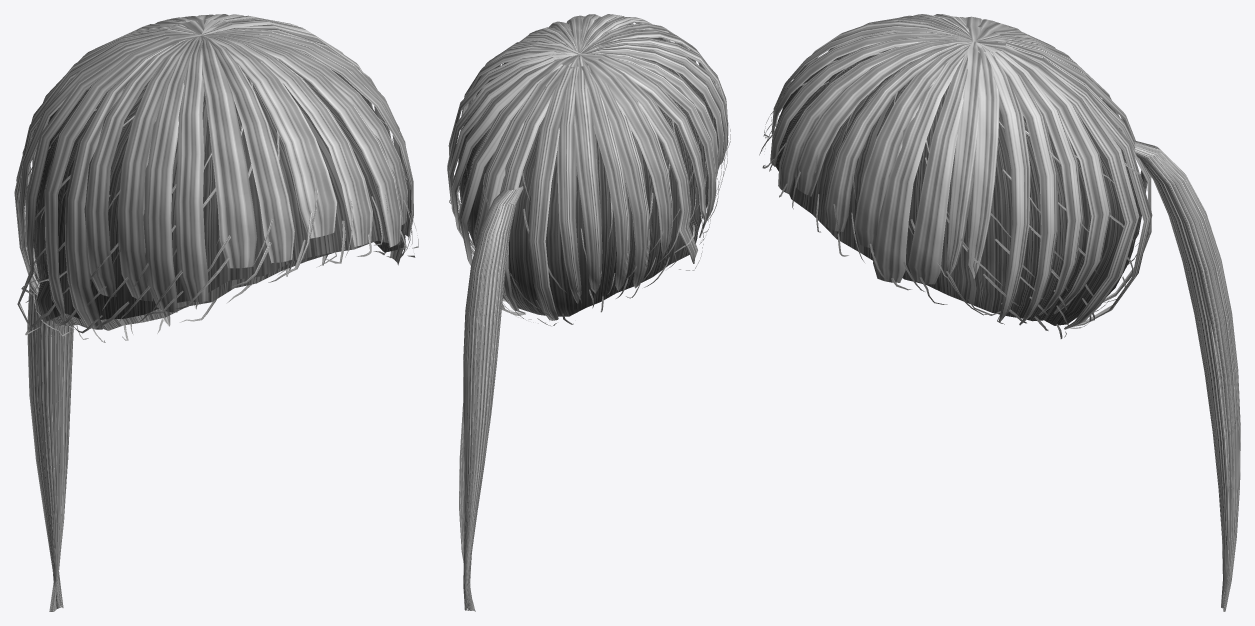
The model's file is unified_f_ponytail.glb.
3 views of the same model, side by side, from view 1: azimuth 30°, elevation 25°; view 2: azimuth 150°, elevation 25°; view 3: azimuth 270°, elevation 25° (orthographic). The views are drawn at different scales.
Parts seen in each view (by area): view 1: Hair_directional_locks, Hair_scalp, Hair_tail_strands, Hair_layered_strands; view 2: Hair_directional_locks, Hair_scalp, Hair_tail_strands, Hair_layered_strands; view 3: Hair_directional_locks, Hair_scalp, Hair_tail_strands, Hair_layered_strands.
Part boxes in pixels (box(x1,y1,x2,y2)): Hair_directional_locks: box(14, 14, 413, 329); Hair_scalp: box(33, 54, 404, 330); Hair_tail_strands: box(27, 243, 73, 611); Hair_layered_strands: box(21, 52, 418, 342); Hair_directional_locks: box(447, 14, 728, 320); Hair_scalp: box(458, 37, 718, 316); Hair_tail_strands: box(459, 186, 523, 611); Hair_layered_strands: box(449, 22, 730, 326); Hair_directional_locks: box(770, 14, 1152, 329); Hair_scalp: box(775, 47, 1140, 325); Hair_tail_strands: box(1133, 140, 1240, 611); Hair_layered_strands: box(759, 48, 1145, 338).
Size of the model in its own units: 0.1071 by 0.2023 by 0.1536.
Materials: 2 (2 with a texture image).
